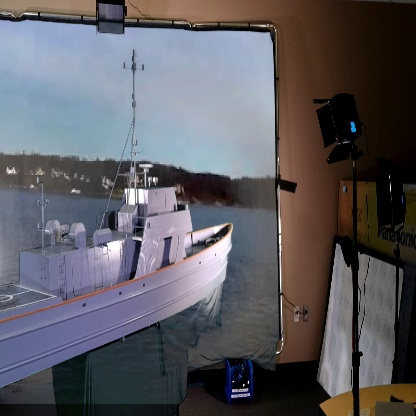YP689: (0, 57, 233, 390)
